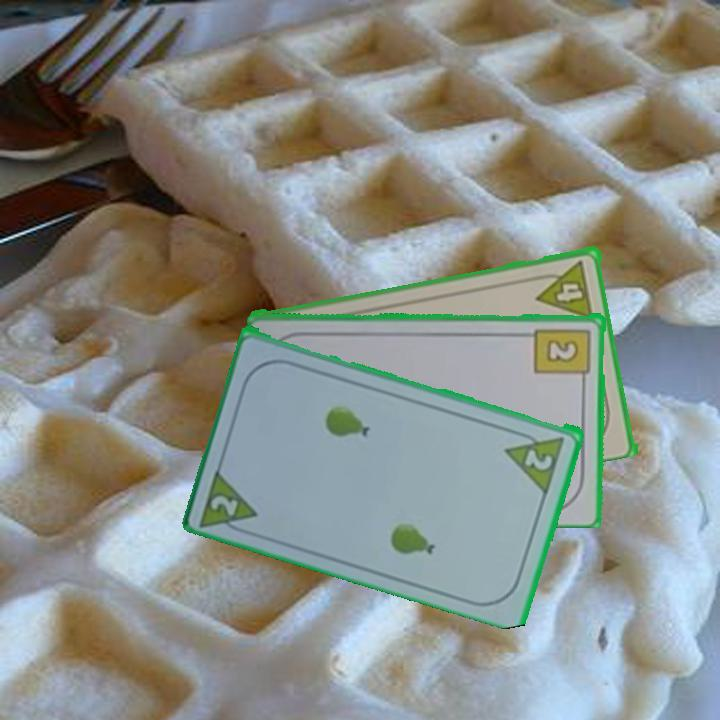2b: (532, 324, 594, 386)
2p: (502, 425, 568, 494), (207, 491, 242, 519)
4p: (531, 256, 596, 321)
